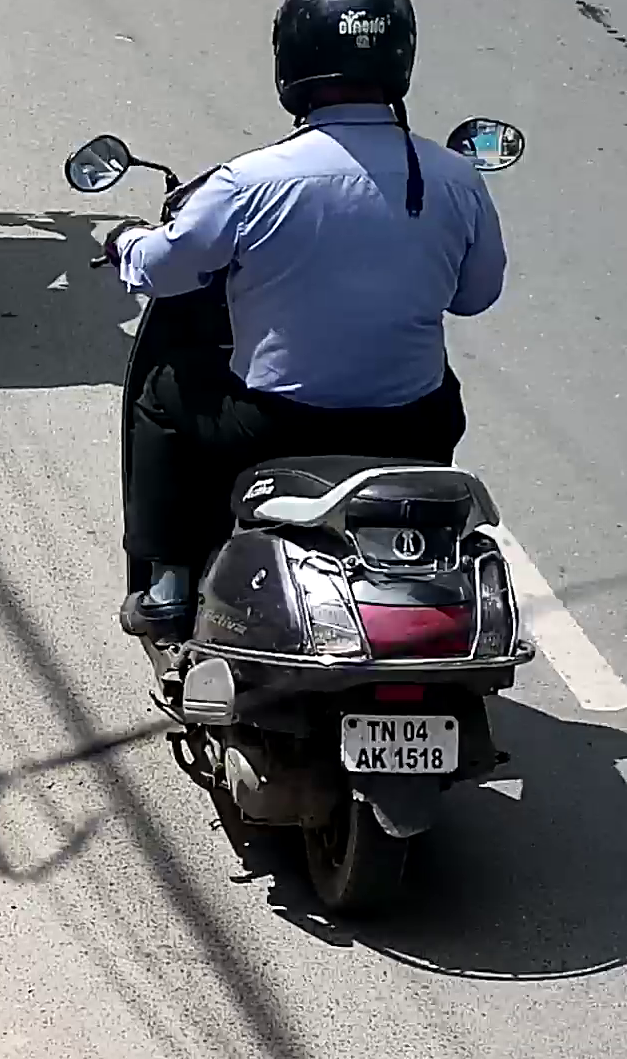0: (403, 721, 415, 742)
1: (418, 747, 429, 769), (394, 746, 404, 769)
4: (415, 720, 428, 742)
5: (404, 747, 418, 769)
8: (430, 747, 443, 769)
A: (355, 748, 371, 769)
K: (371, 746, 387, 769)
N: (381, 720, 396, 742)
P16: (339, 712, 461, 777)
T: (366, 720, 381, 742)
